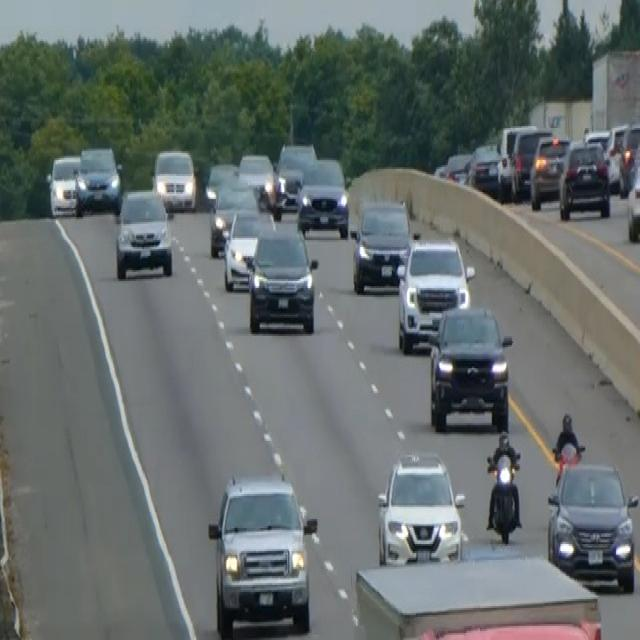car: (546, 457, 638, 594), (426, 302, 513, 432), (375, 448, 466, 565), (396, 234, 474, 354), (246, 222, 318, 334), (351, 195, 412, 294), (114, 185, 173, 279), (222, 206, 275, 292), (296, 155, 349, 238), (558, 137, 611, 220), (208, 174, 259, 256), (74, 144, 121, 213), (273, 140, 317, 213), (529, 133, 570, 210), (496, 121, 536, 199), (152, 146, 197, 212), (511, 126, 552, 198), (238, 151, 276, 210), (47, 153, 81, 217), (466, 140, 501, 194), (204, 160, 238, 210), (617, 119, 639, 194), (626, 149, 639, 242), (444, 151, 471, 183)
jeep: (206, 470, 318, 638)
lorry: (351, 550, 605, 638)
motorcycle: (484, 443, 522, 544)
